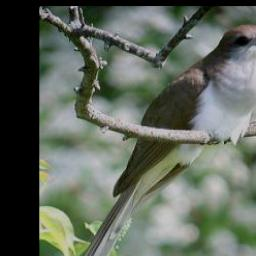Cuckoo: (62, 23, 256, 256)
